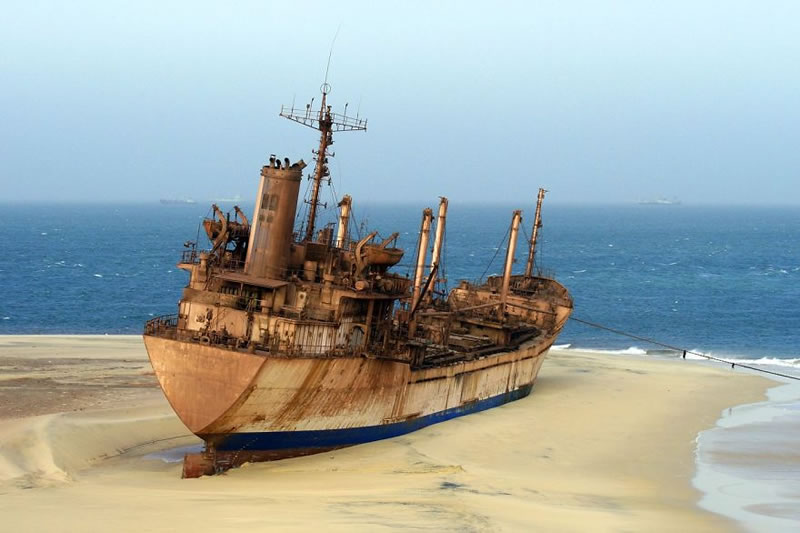rust: (150, 338, 256, 431), (251, 174, 301, 273), (302, 363, 390, 416), (459, 290, 560, 331), (359, 260, 399, 341)
